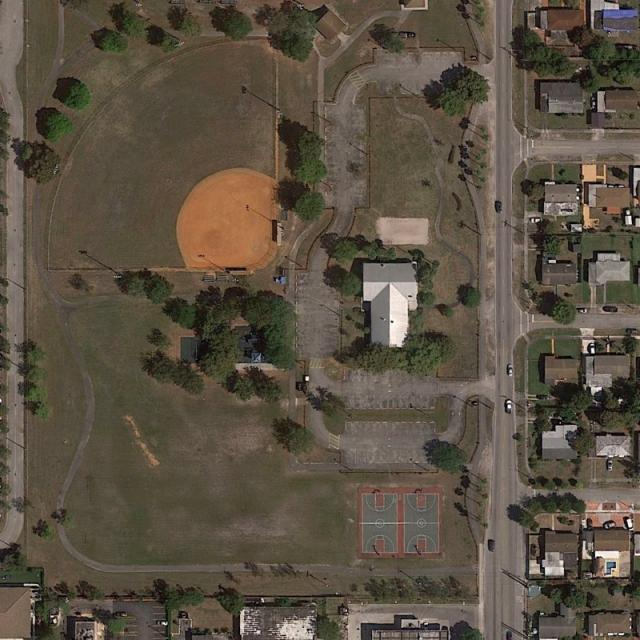vehicle: (626, 518, 634, 531), (536, 395, 550, 402), (603, 522, 616, 529), (590, 97, 597, 109), (602, 306, 618, 311), (506, 400, 512, 413), (589, 343, 596, 354), (489, 540, 495, 551), (607, 460, 613, 471), (587, 519, 593, 530), (402, 33, 415, 38), (574, 309, 589, 313), (626, 329, 638, 334), (508, 365, 513, 376), (506, 631, 512, 640), (157, 621, 167, 626), (498, 202, 502, 214), (531, 218, 542, 222), (117, 613, 126, 616)
